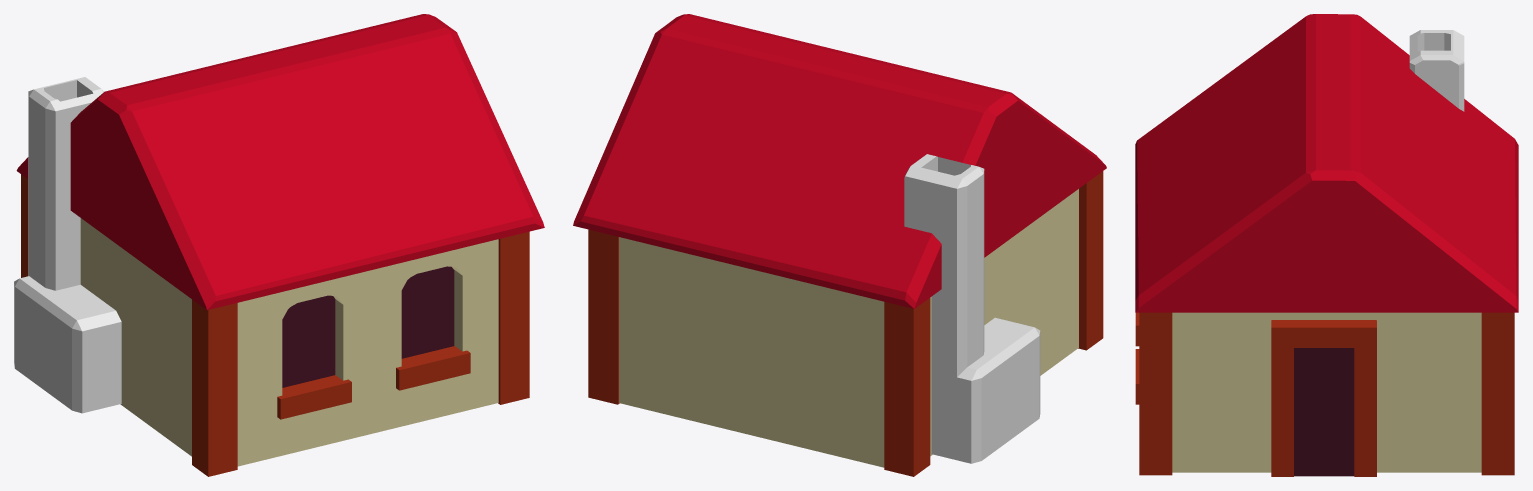
The model's file is house_mid.fbx.
3 renders of one model, left to right at view 1: azimuth 30°, elevation 25°; view 2: azimuth 150°, elevation 25°; view 3: azimuth 270°, elevation 25°, orthographic.
Parts seen in each view (by area): view 1: Cube.003; view 2: Cube.003; view 3: Cube.003.
Part boxes in pixels (box(x1,y1,x2,y2)): Cube.003: box(14, 14, 544, 476); Cube.003: box(573, 14, 1106, 476); Cube.003: box(1135, 14, 1518, 476).
Bounding box in the file's own units: 584 × 461 × 518.
